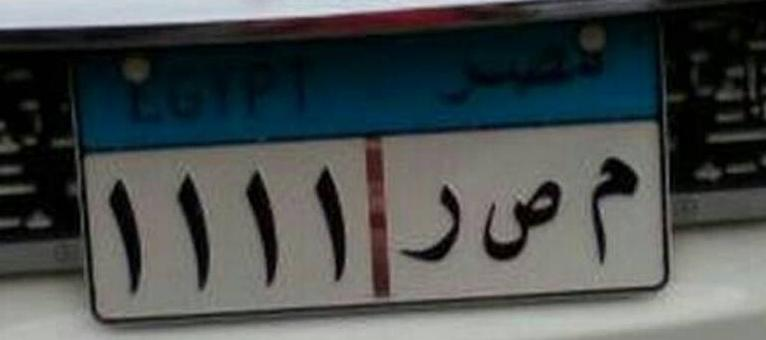1: (165, 166, 223, 299), (305, 155, 362, 286), (237, 160, 287, 300), (106, 168, 149, 307)
meem: (574, 143, 644, 274)
raa: (391, 170, 466, 280)
saad: (474, 165, 563, 269)
